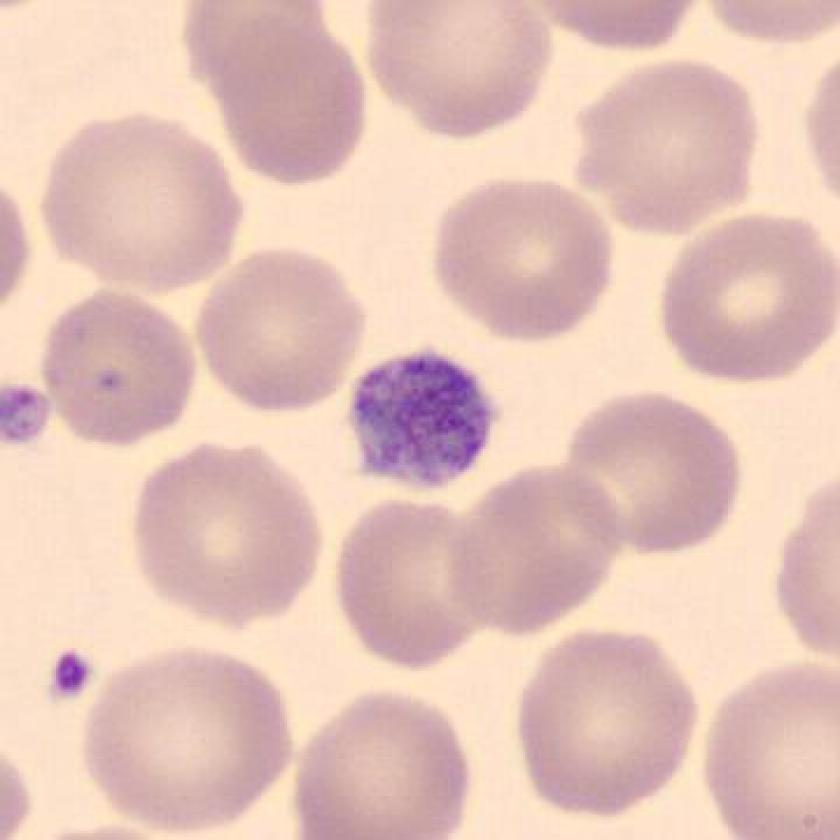platelets: (335, 344, 510, 503)
